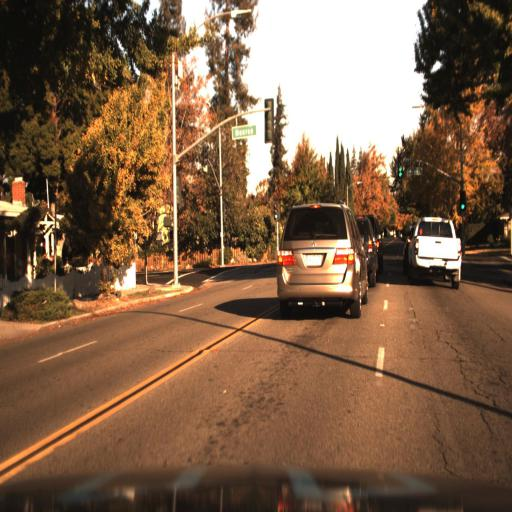car: (273, 200, 370, 319), (406, 216, 465, 283)
trafficLight: (395, 151, 406, 181)
trafficLight-Green: (457, 189, 468, 212)
